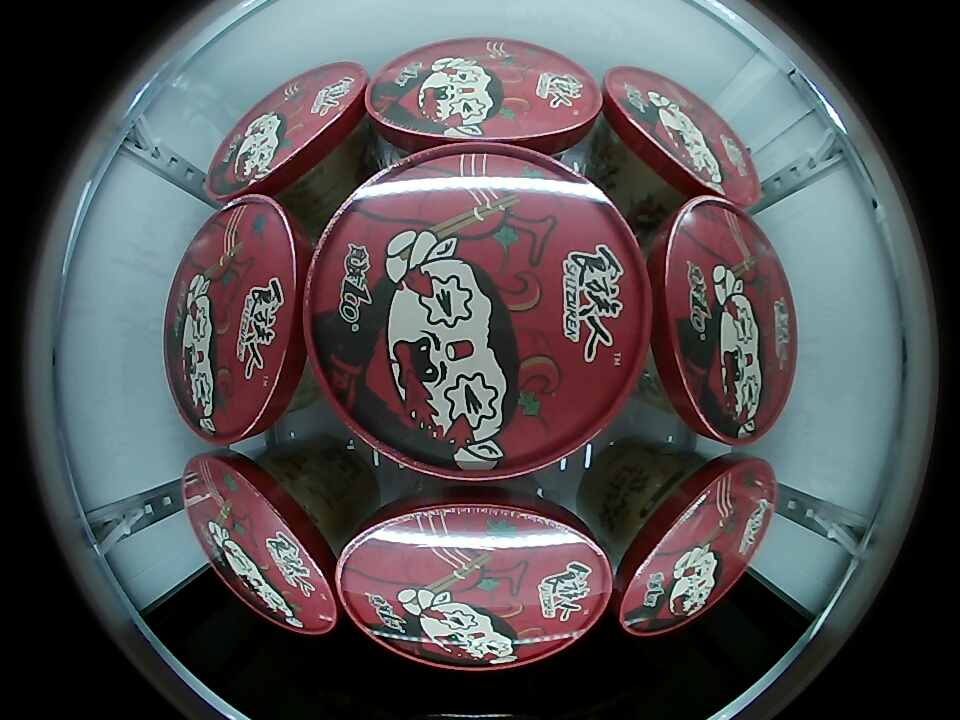suanlafen: (304, 143, 652, 480), (336, 494, 613, 670), (647, 196, 798, 446), (164, 196, 311, 444), (611, 456, 778, 637), (183, 453, 343, 635), (364, 39, 604, 158), (205, 61, 370, 205), (599, 65, 761, 207)
